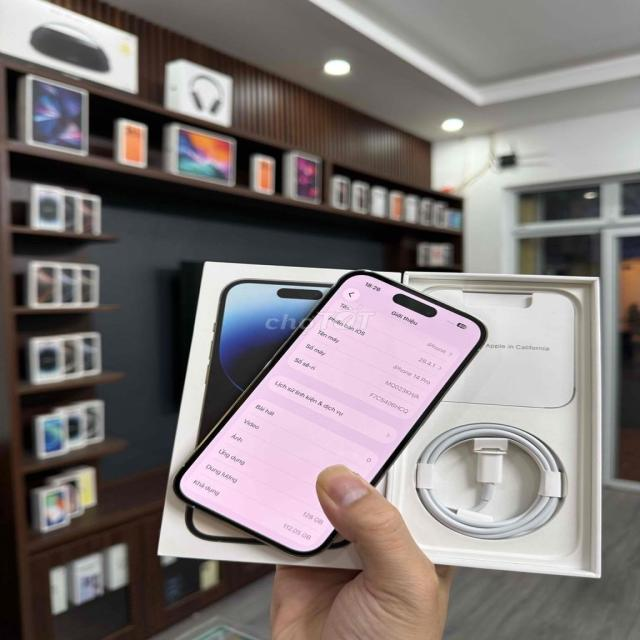gen_14: (164, 271, 486, 557)
